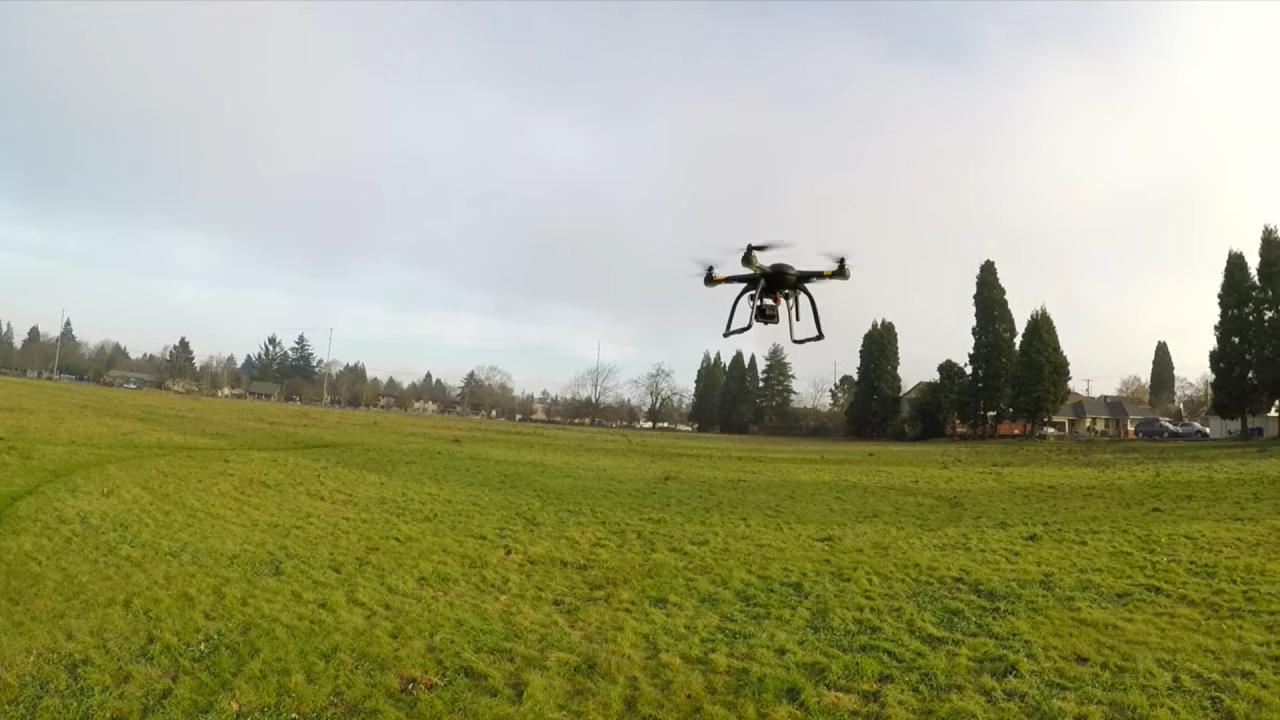Drone: (674, 223, 865, 354)
